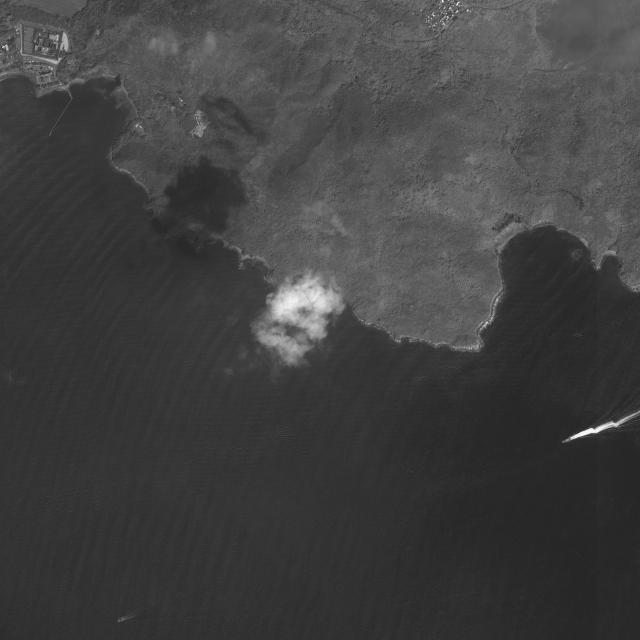ship: (561, 438, 571, 444), (117, 618, 123, 623)
